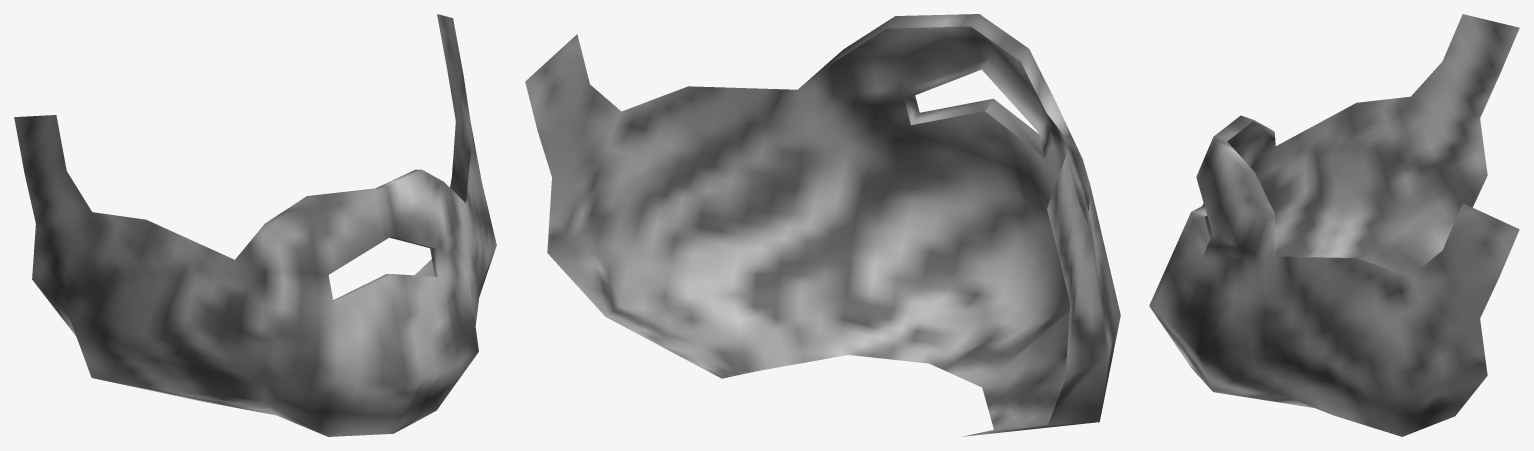
Rendered from FakeBeard_Bob_Beard_Full.fbx.
3 views of the same model, side by side, from view 1: azimuth 30°, elevation 25°; view 2: azimuth 150°, elevation 25°; view 3: azimuth 270°, elevation 25° (orthographic). The views are drawn at different scales.
Parts seen in each view (by area): view 1: BoxOfJars003; view 2: BoxOfJars003; view 3: BoxOfJars003.
Boxes of the visible parts, box(x1,y1,x2,y2) form: BoxOfJars003: box(14, 14, 496, 436); BoxOfJars003: box(525, 14, 1120, 436); BoxOfJars003: box(1149, 14, 1519, 436).
Size of the model in its own units: 11.07 by 7.06 by 8.6.
